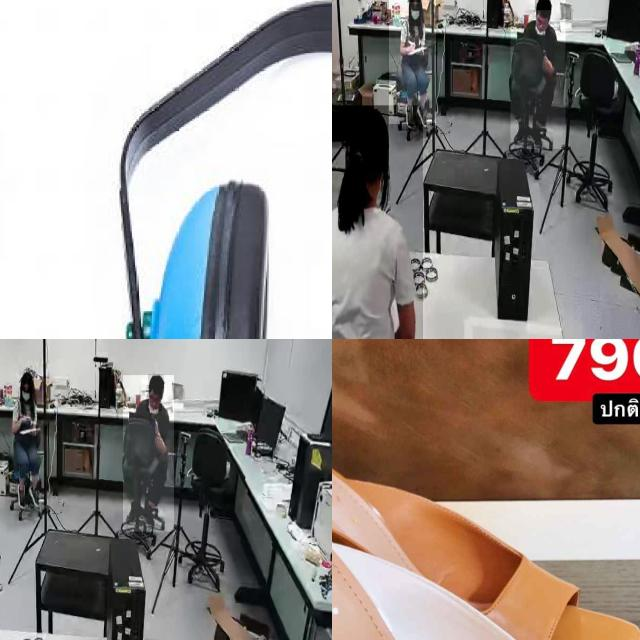Ear-protection: (118, 50, 332, 339)
Sandals: (332, 470, 640, 640)
face_mask: (410, 4, 420, 26), (20, 387, 32, 401)
face_nomask: (146, 385, 162, 411)
hand_noglove: (406, 38, 416, 52)
head_nohelmet: (347, 105, 389, 151), (148, 374, 164, 388), (534, 0, 551, 11), (19, 372, 33, 384), (408, 0, 421, 3)
person: (332, 105, 423, 339), (123, 375, 175, 533), (510, 0, 565, 149), (389, 0, 436, 124), (12, 372, 44, 514)
shoes: (401, 100, 417, 130), (531, 119, 546, 148), (28, 482, 41, 509), (16, 480, 26, 510)
